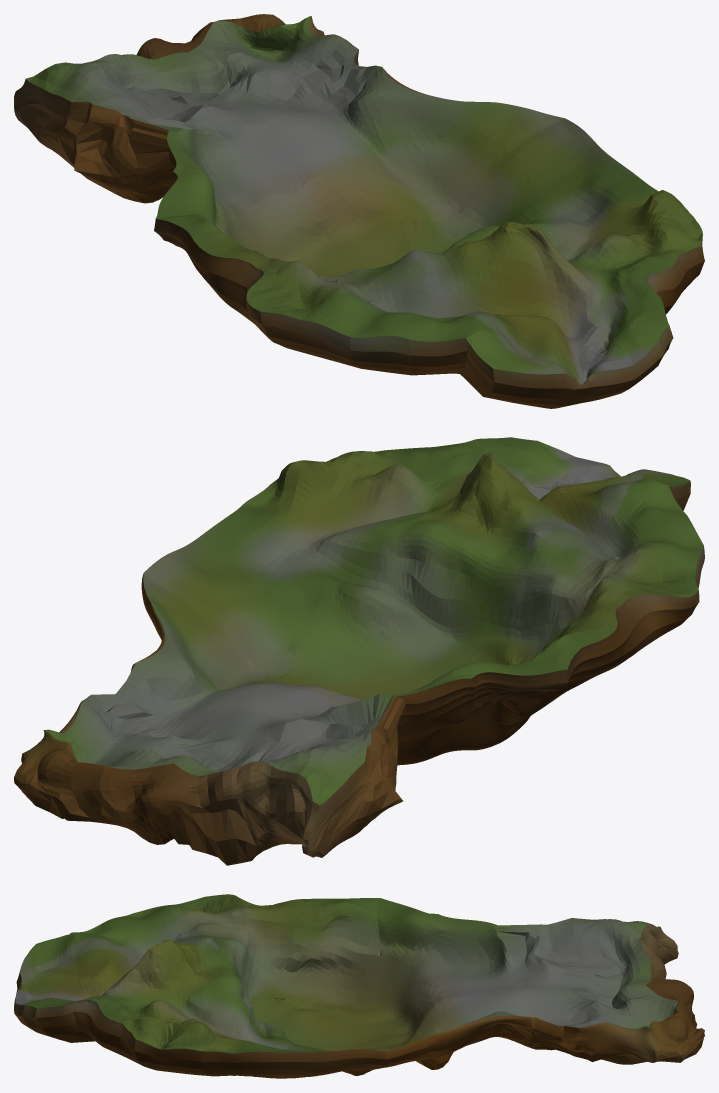
File: mundo_sem_sentido_estetico.fbx
3 renders of one model, top to bottom at view 1: azimuth 30°, elevation 25°; view 2: azimuth 150°, elevation 25°; view 3: azimuth 270°, elevation 25°, orthographic. The views are drawn at different scales.
Parts seen in each view (by area): view 1: mundo; view 2: mundo; view 3: mundo.
Part boxes in pixels (x1=…): mundo: x1=14, y1=14, x2=704, y2=408; mundo: x1=14, y1=437, x2=704, y2=865; mundo: x1=14, y1=894, x2=704, y2=1078.
Bounding box in the file's own units: 15474 × 5513 × 28794.
